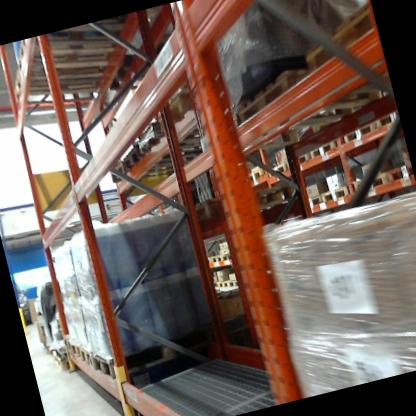pallet: (11, 18, 141, 361), (228, 43, 388, 145), (87, 306, 260, 389), (6, 41, 128, 122), (298, 0, 383, 85), (118, 122, 223, 176), (106, 141, 204, 193), (151, 81, 236, 136), (136, 122, 219, 167), (335, 116, 381, 153), (350, 169, 390, 196), (51, 342, 81, 376), (306, 132, 341, 161), (319, 181, 355, 208), (255, 156, 289, 183), (243, 163, 273, 190), (284, 148, 312, 175), (372, 104, 401, 130), (385, 162, 415, 186), (79, 346, 97, 373), (302, 191, 325, 212), (58, 330, 78, 353), (68, 336, 83, 362), (216, 276, 233, 295), (205, 249, 224, 265), (220, 248, 239, 262), (227, 275, 241, 291), (207, 279, 219, 291)
